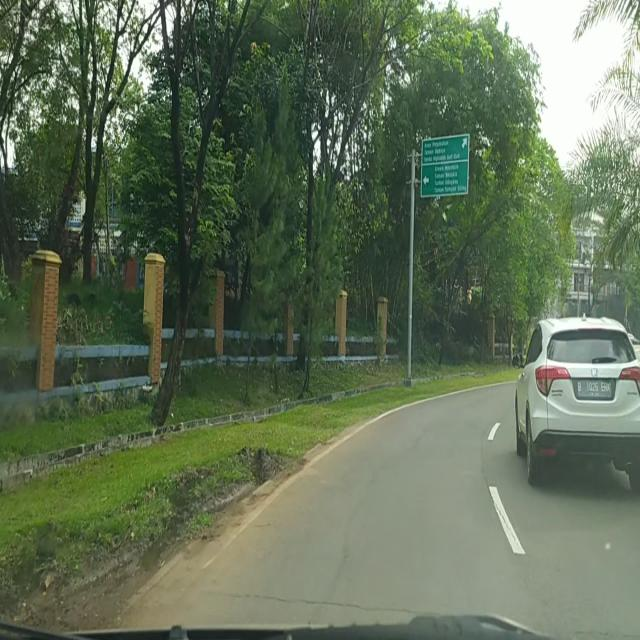Sewer Cover: (213, 577, 417, 615)
